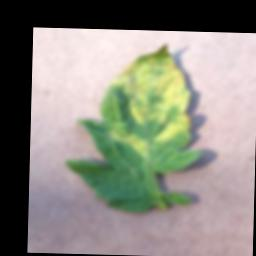Leaf_Mold: (99, 41, 194, 160)
